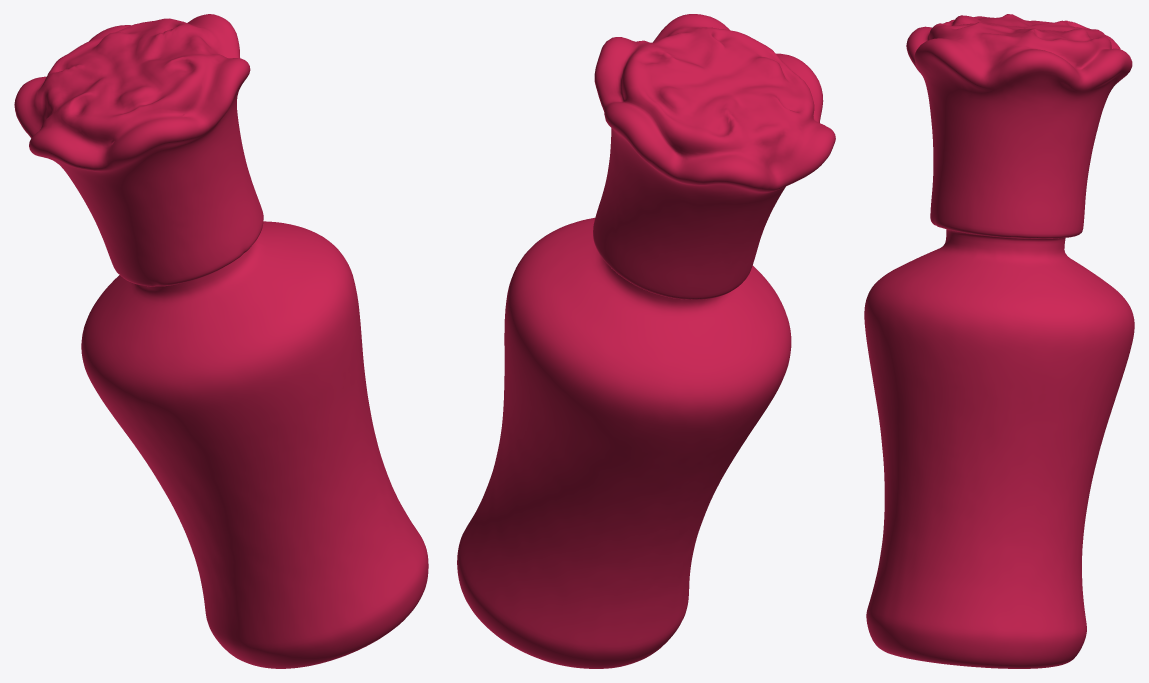
The model's file is rose_red_perfume_bottle1.glb.
3 views of the same model, side by side, from view 1: azimuth 30°, elevation 25°; view 2: azimuth 150°, elevation 25°; view 3: azimuth 270°, elevation 25° (orthographic). The views are drawn at different scales.
Parts seen in each view (by area): view 1: Mesh1_Mesh1.026; view 2: Mesh1_Mesh1.026; view 3: Mesh1_Mesh1.026.
Part boxes in pixels (x1,y1,x2,y2): Mesh1_Mesh1.026: (14,14,428,668); Mesh1_Mesh1.026: (457,14,835,668); Mesh1_Mesh1.026: (864,14,1134,668).
Bounding box in the file's own units: 1.24 × 2.04 × 0.8388.
